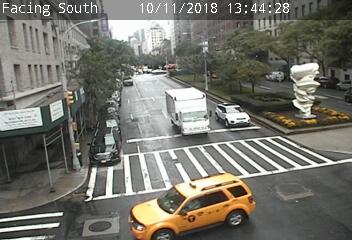car: (165, 89, 209, 135), (89, 128, 119, 165), (215, 102, 250, 129)
